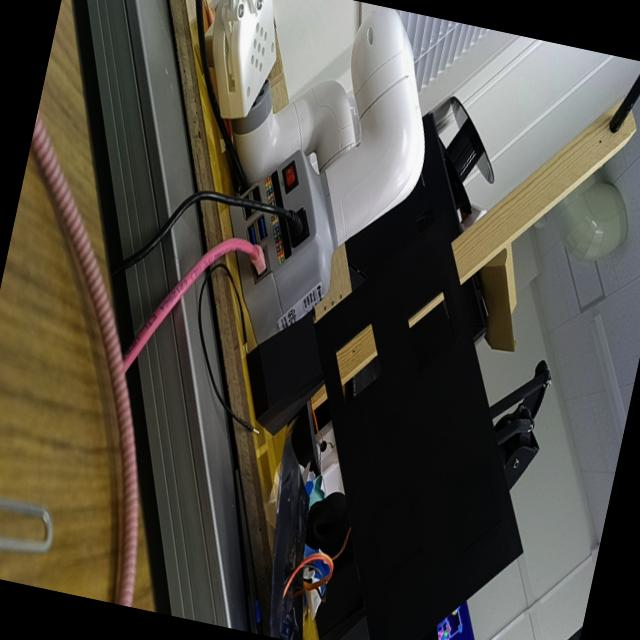Obstacle: (406, 279, 456, 367), (336, 319, 380, 405)
Wall: (314, 216, 522, 640)
